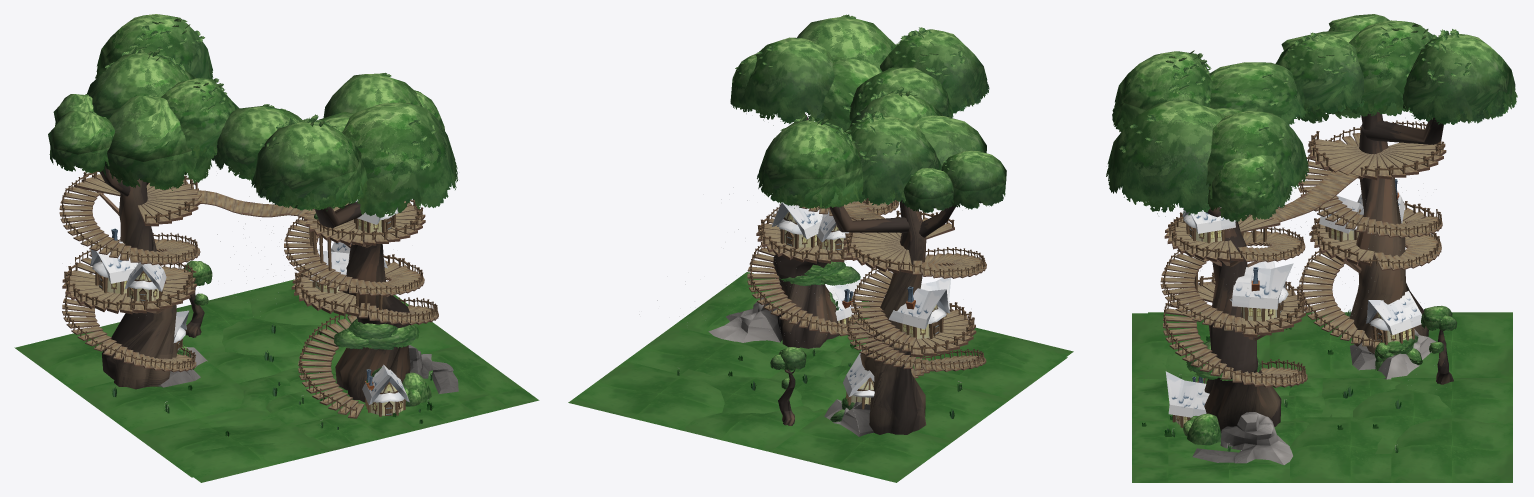
3 renders of one model, left to right at view 1: azimuth 30°, elevation 25°; view 2: azimuth 150°, elevation 25°; view 3: azimuth 270°, elevation 25°, orthographic. The views are drawn at different scales.
Visible parts, largest first — view 1: Branch07, Ground33, Platform58, pCylinder26, pCylinder23, pCylinder28, pCylinder21; view 2: Branch07, Ground33, Platform58, pCylinder26, pCylinder22, pCylinder27, pCylinder21, pCylinder23; view 3: Branch07, Ground33, Platform58, pCylinder22, pCylinder27, pCylinder23, pCylinder28, pCylinder26, pSphere32, pSphere45, Branch05.
Part boxes in pixels (box(x1,y1,x2,y2)): Branch07: box(48, 14, 458, 402); Ground33: box(14, 279, 539, 482); Platform58: box(59, 171, 438, 418); pCylinder26: box(90, 228, 166, 301); pCylinder23: box(362, 364, 409, 416); pCylinder28: box(350, 199, 398, 232); pCylinder21: box(306, 248, 349, 293); Branch07: box(708, 14, 1006, 436); Ground33: box(568, 272, 1073, 482); Platform58: box(747, 198, 986, 378); pCylinder26: box(888, 277, 950, 338); pCylinder22: box(772, 202, 822, 248); pCylinder27: box(843, 350, 874, 409); pCylinder21: box(816, 210, 848, 250); pCylinder23: box(828, 272, 862, 324); Branch07: box(1106, 14, 1517, 464); Ground33: box(1132, 312, 1512, 482); Platform58: box(1160, 120, 1446, 387); pCylinder22: box(1229, 263, 1293, 321); pCylinder27: box(1366, 291, 1421, 344); pCylinder23: box(1165, 371, 1209, 427); pCylinder28: box(1182, 207, 1236, 243); pCylinder26: box(1319, 179, 1404, 241); pSphere32: box(1187, 413, 1221, 445); pSphere45: box(1421, 305, 1452, 330); Branch05: box(1436, 329, 1453, 384).
Bounding box in the file's own units: 49.11 × 42.62 × 45.86.
